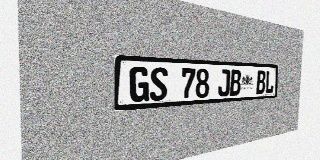7: (180, 68, 196, 99)
8: (195, 68, 210, 98)
B: (230, 69, 241, 96), (256, 70, 266, 94)
G: (129, 66, 149, 103)
J: (218, 69, 230, 97)
L: (265, 71, 274, 94)
S: (150, 67, 168, 101)
